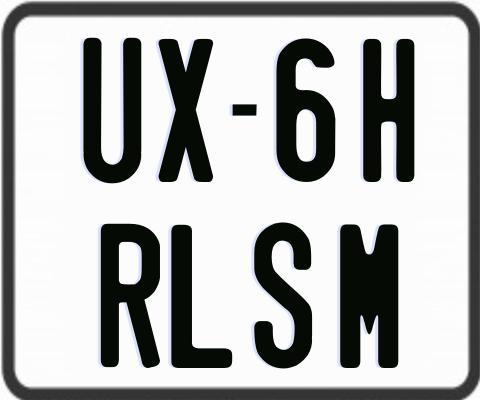6: (273, 37, 338, 183)
H: (363, 37, 416, 184)
L: (169, 225, 235, 373)
M: (339, 221, 399, 366)
R: (100, 224, 164, 374)
S: (254, 220, 315, 368)
U: (82, 38, 142, 184)
X: (156, 38, 216, 184)
